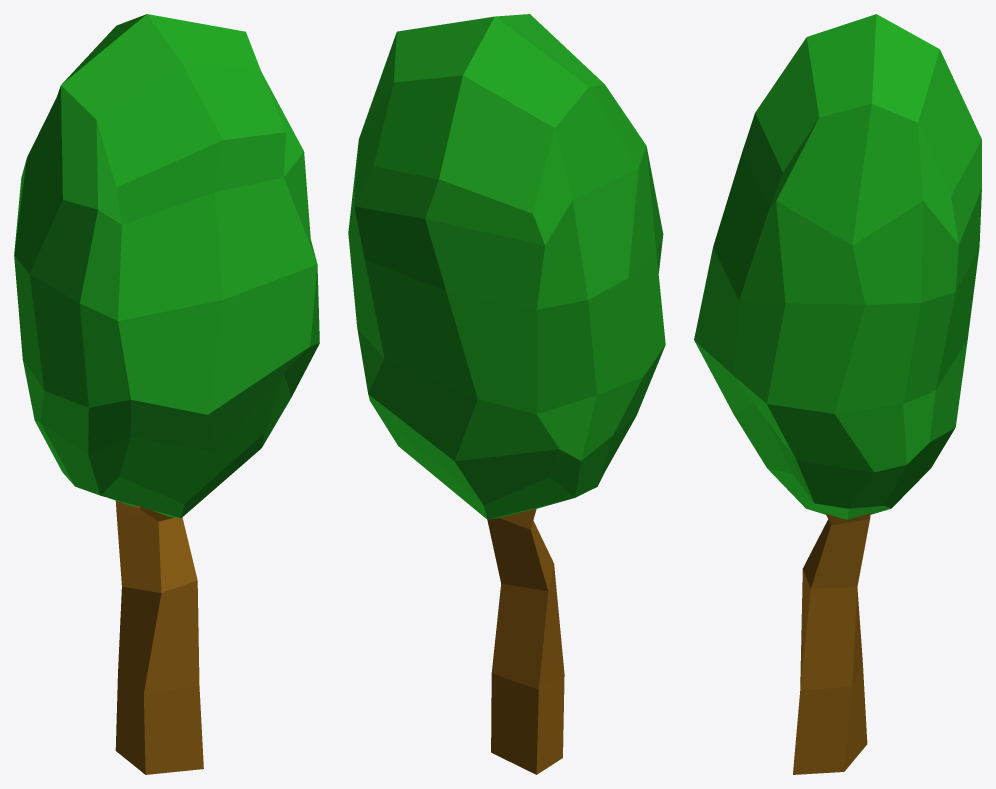
3 renders of one model, left to right at view 1: azimuth 30°, elevation 25°; view 2: azimuth 150°, elevation 25°; view 3: azimuth 270°, elevation 25°, orthographic. The views are drawn at different scales.
Visible parts, largest first — view 1: Cube.001, Cube; view 2: Cube.001, Cube; view 3: Cube.001, Cube.
Boxes of the visible parts, box(x1,y1,x2,y2) form: Cube.001: box(14, 14, 319, 518); Cube: box(115, 500, 203, 774); Cube.001: box(348, 14, 665, 519); Cube: box(487, 508, 564, 774); Cube.001: box(694, 14, 981, 519); Cube: box(793, 513, 870, 774).
Bounding box in the file's own units: 34.71 × 95.16 × 32.99.
